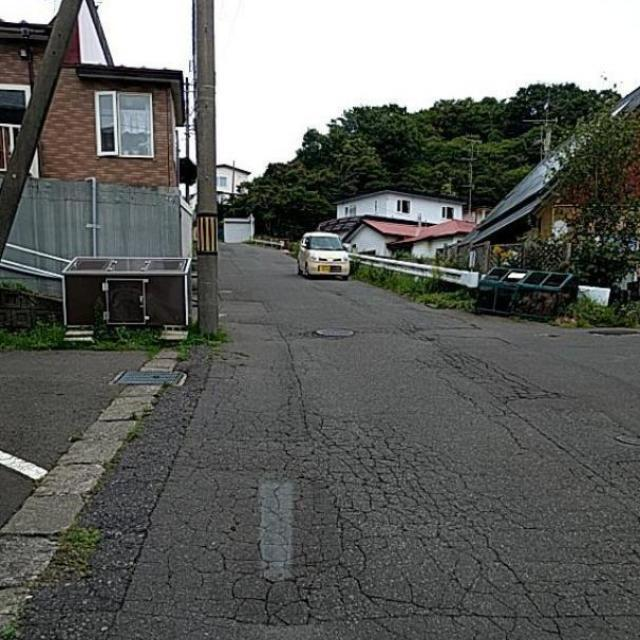Retak Buaya: (193, 410, 582, 640)
